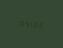four: (23, 19, 27, 27)
one: (28, 19, 32, 28)
two: (38, 20, 42, 28)
zero: (18, 18, 22, 27), (33, 20, 37, 28)
